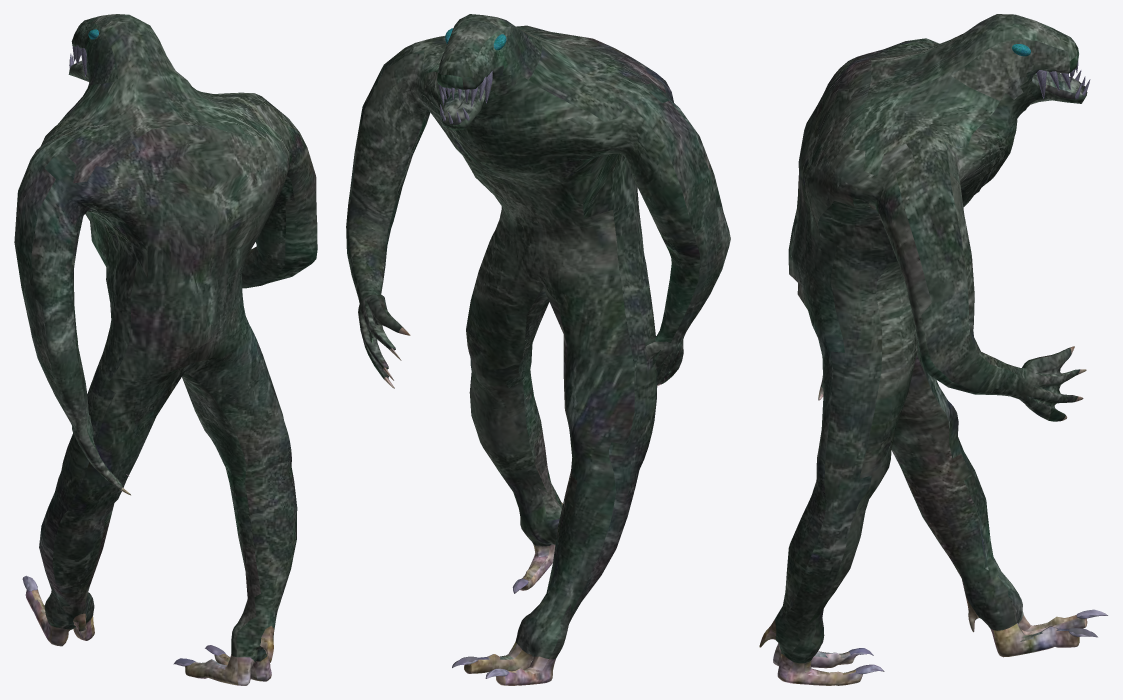
File: Andar.0015.obj
3 renders of one model, left to right at view 1: azimuth 30°, elevation 25°; view 2: azimuth 150°, elevation 25°; view 3: azimuth 270°, elevation 25°, orthographic. The views are drawn at different scales.
Visible parts, largest first — view 1: polySurface28; view 2: polySurface28; view 3: polySurface28.
Part boxes in pixels (x1,y1,x2,y2): polySurface28: (14,14,317,685); polySurface28: (346,14,730,685); polySurface28: (759,14,1107,685).
Bounding box in the file's own units: 1.24 × 2.32 × 1.11.
4 materials, 4 textured.
